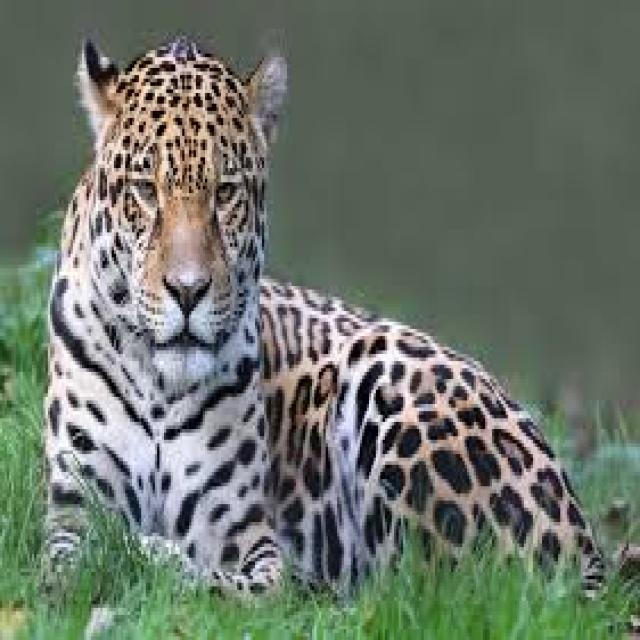Jaguar: (30, 36, 615, 600)
